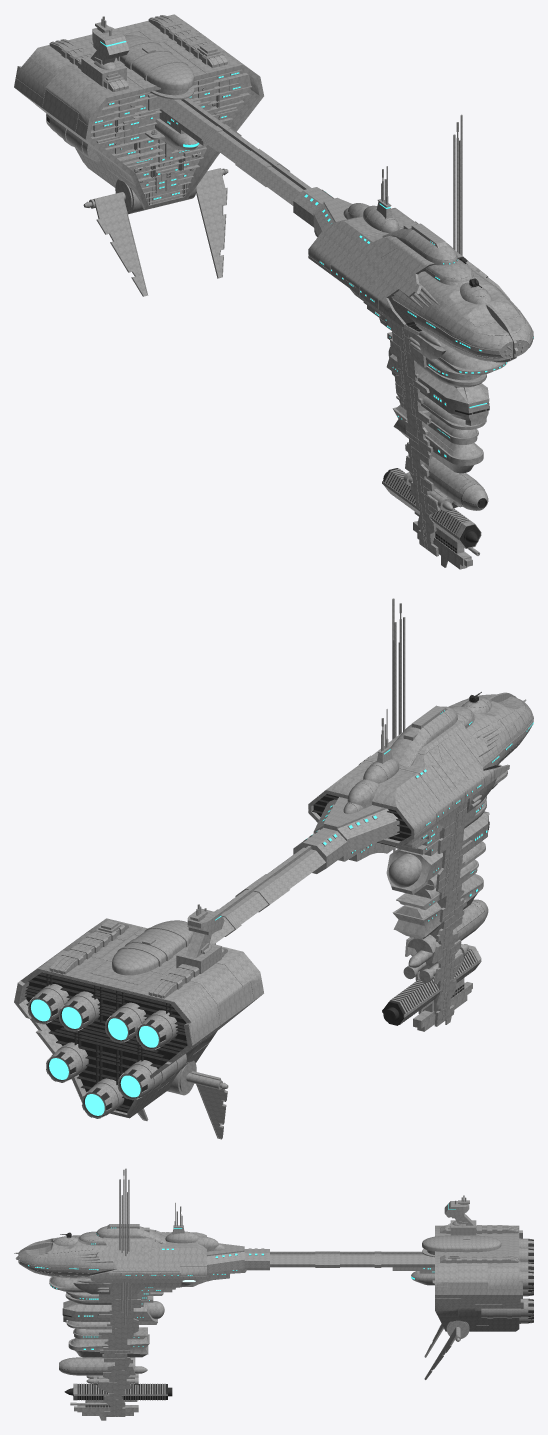
File: star_wars_nebulon_b_frigate.glb
The picture shows the model from 3 angles, top to bottom: view 1: azimuth 30°, elevation 25°; view 2: azimuth 150°, elevation 25°; view 3: azimuth 270°, elevation 25°; orthographic projection. The views are drawn at different scales.
Parts seen in each view (by area): view 1: HullPlating, LowerSection, BackSectionExtras, GreeblesBackSection, ConnectingSpar, StaticDischangeVanes, BackSection, FrontSection, GreeblesFrontSection, GreeblesFrontSection2, FrontSectionExtras, Engines; view 2: HullPlating, LowerSection, Engines, BackSectionExtras, ConnectingSpar, GreeblesBackSection, BackSection, StaticDischangeVanes, FrontSection, GreeblesFrontSection2, GreeblesFrontSection, FrontSectionExtras; view 3: HullPlating, LowerSection, ConnectingSpar, BackSectionExtras, Engines, GreeblesFrontSection2, FrontSection, GreeblesFrontSection, StaticDischangeVanes, FrontSectionExtras, BackSection.
Boxes of the visible parts, x1=… form: HullPlating: x1=14, y1=14, x2=532, y2=556; LowerSection: x1=314, y1=229, x2=507, y2=569; BackSectionExtras: x1=49, y1=15, x2=227, y2=150; GreeblesBackSection: x1=90, y1=69, x2=251, y2=204; ConnectingSpar: x1=151, y1=95, x2=352, y2=236; StaticDischangeVanes: x1=83, y1=168, x2=228, y2=296; BackSection: x1=15, y1=31, x2=263, y2=209; FrontSection: x1=308, y1=224, x2=530, y2=358; GreeblesFrontSection: x1=304, y1=189, x2=533, y2=458; GreeblesFrontSection2: x1=381, y1=114, x2=512, y2=357; FrontSectionExtras: x1=352, y1=199, x2=518, y2=362; Engines: x1=46, y1=113, x2=100, y2=161; HullPlating: x1=18, y1=694, x2=532, y2=1117; LowerSection: x1=338, y1=764, x2=507, y2=1031; Engines: x1=27, y1=984, x2=186, y2=1118; BackSectionExtras: x1=49, y1=904, x2=227, y2=998; ConnectingSpar: x1=210, y1=797, x2=399, y2=943; GreeblesBackSection: x1=24, y1=972, x2=187, y2=1111; BackSection: x1=14, y1=927, x2=261, y2=1118; StaticDischangeVanes: x1=137, y1=1060, x2=228, y2=1139; FrontSection: x1=308, y1=708, x2=529, y2=846; GreeblesFrontSection2: x1=381, y1=598, x2=526, y2=851; GreeblesFrontSection: x1=304, y1=708, x2=533, y2=921; FrontSectionExtras: x1=356, y1=692, x2=516, y2=808; HullPlating: x1=19, y1=1225, x2=523, y2=1416; LowerSection: x1=49, y1=1268, x2=246, y2=1420; ConnectingSpar: x1=207, y1=1243, x2=434, y2=1273; BackSectionExtras: x1=392, y1=1195, x2=518, y2=1285; Engines: x1=481, y1=1238, x2=533, y2=1323; GreeblesFrontSection2: x1=14, y1=1168, x2=182, y2=1325; FrontSection: x1=21, y1=1230, x2=206, y2=1287; GreeblesFrontSection: x1=19, y1=1227, x2=264, y2=1350; StaticDischangeVanes: x1=424, y1=1320, x2=469, y2=1379; FrontSectionExtras: x1=16, y1=1224, x2=209, y2=1263; BackSection: x1=435, y1=1230, x2=523, y2=1331.
Size of the model in its own units: 145 by 333 by 599.
Materials: 6 (2 with a texture image).
